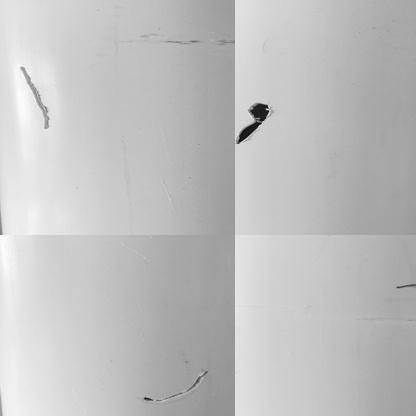fengxi: (15, 64, 57, 134), (137, 368, 214, 404), (395, 279, 414, 294)
kongdong: (234, 100, 273, 145)
